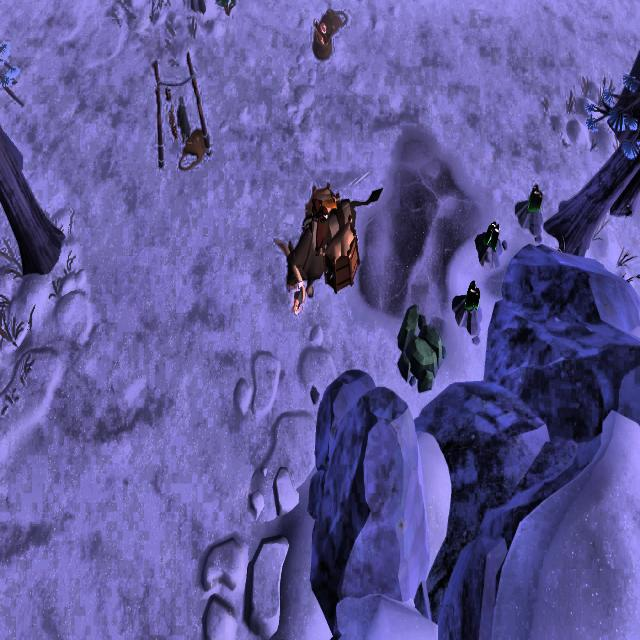ore_t3: (479, 218, 500, 250), (526, 181, 542, 221), (463, 280, 481, 314)
rock_t3: (390, 302, 447, 392)
